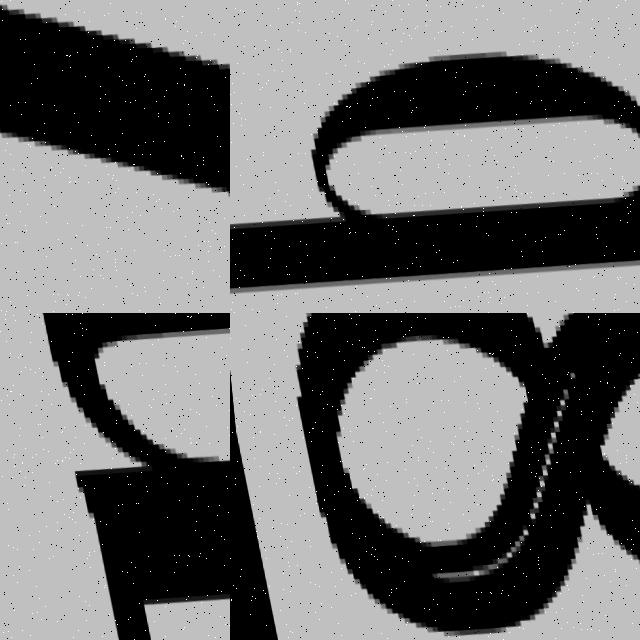8: (260, 313, 640, 640)
Q: (230, 15, 640, 313)
R: (0, 0, 230, 313)
U: (0, 313, 230, 640)
